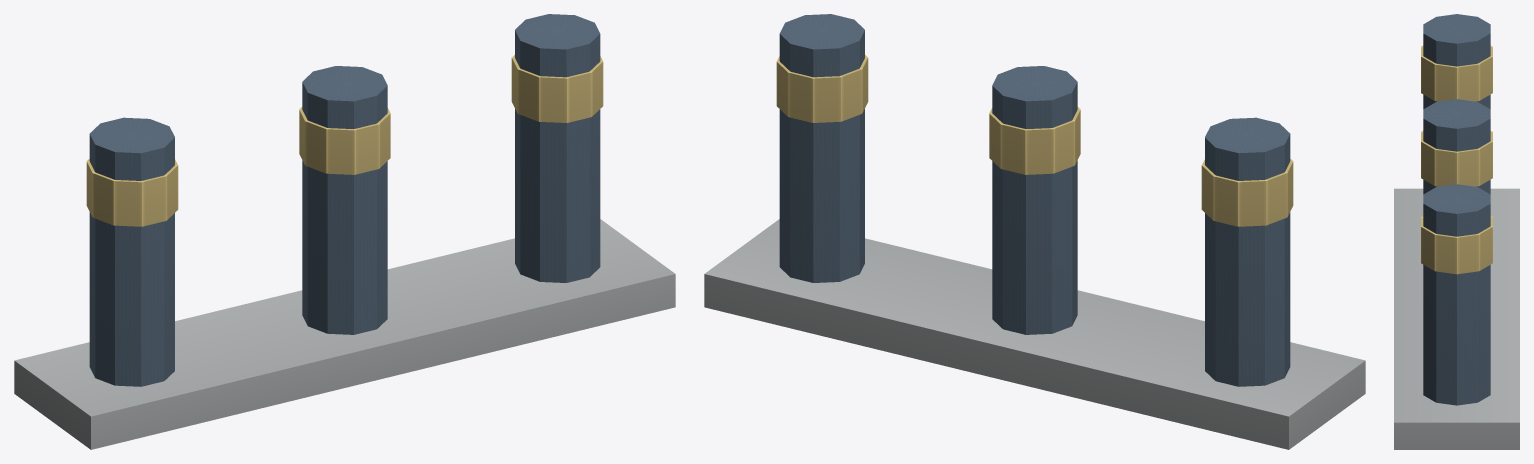
The model's file is traffic_bollard.glb.
3 renders of one model, left to right at view 1: azimuth 30°, elevation 25°; view 2: azimuth 150°, elevation 25°; view 3: azimuth 270°, elevation 25°, orthographic. The views are drawn at different scales.
Parts seen in each view (by area): view 1: traffic_bollard; view 2: traffic_bollard; view 3: traffic_bollard.
Part boxes in pixels (bbox=[...]): traffic_bollard: bbox=[14, 14, 675, 449]; traffic_bollard: bbox=[704, 14, 1365, 449]; traffic_bollard: bbox=[1394, 14, 1519, 449].
Size of the model in its own units: 2.2 by 0.96 by 0.5.
1 material, 1 textured.
